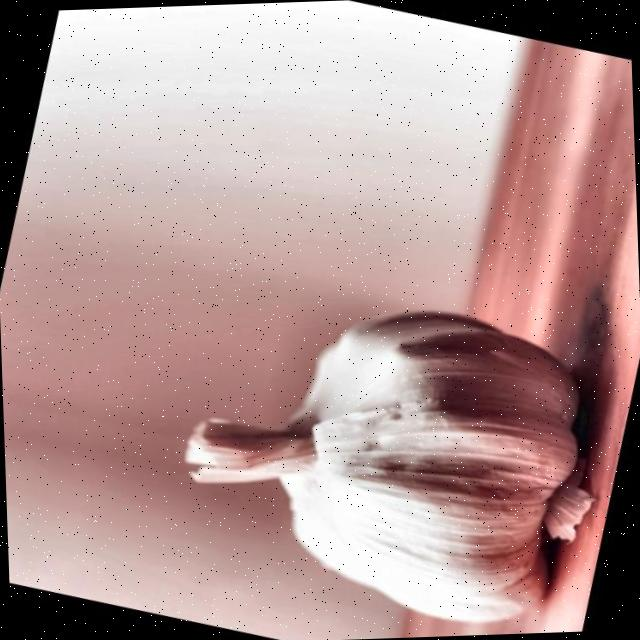garlic: (186, 312, 592, 619)
